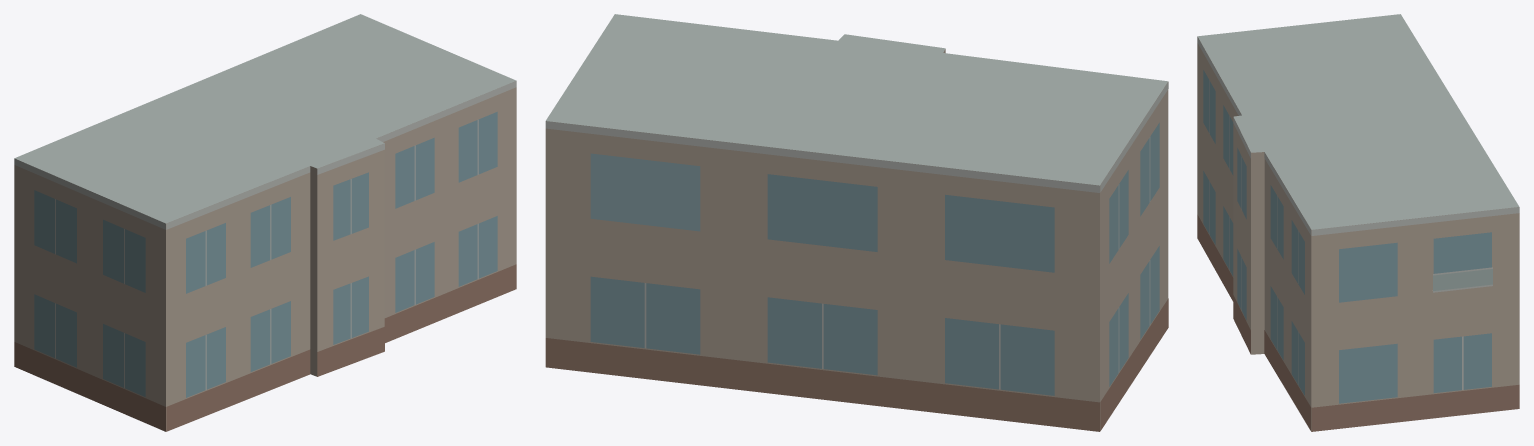
The model's file is survey-upis-32616400.glb.
The picture shows the model from 3 angles, left to right: view 1: azimuth 30°, elevation 25°; view 2: azimuth 150°, elevation 25°; view 3: azimuth 270°, elevation 25°; orthographic projection. The views are drawn at different scales.
Visible parts, largest first — view 1: survey-upis-32616400.tmp; view 2: survey-upis-32616400.tmp; view 3: survey-upis-32616400.tmp.
Boxes of the visible parts, left/top/right/bottom form: survey-upis-32616400.tmp: left=14, top=14, right=516, bottom=431; survey-upis-32616400.tmp: left=545, top=14, right=1168, bottom=431; survey-upis-32616400.tmp: left=1197, top=14, right=1519, bottom=431.
Bounding box in the file's own units: 18.24 × 7.95 × 11.5.
